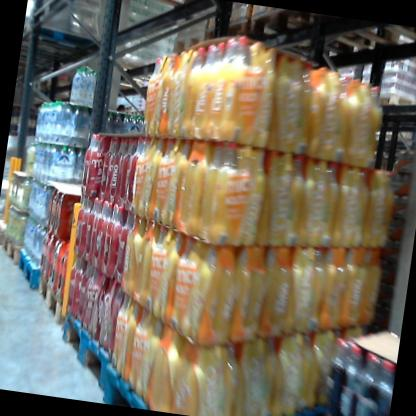pallet: (102, 344, 348, 416), (223, 7, 416, 79), (52, 308, 116, 397), (21, 17, 113, 64), (29, 269, 81, 344), (201, 3, 254, 59), (78, 62, 151, 98), (356, 78, 416, 118), (15, 248, 45, 293), (171, 13, 206, 50), (0, 234, 21, 274), (0, 216, 13, 249)
